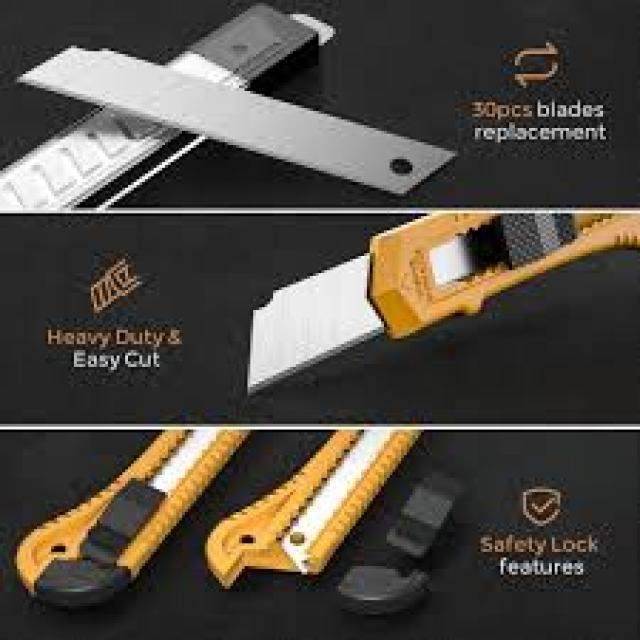cutter: (236, 214, 640, 398), (4, 428, 255, 618), (206, 428, 426, 600)
